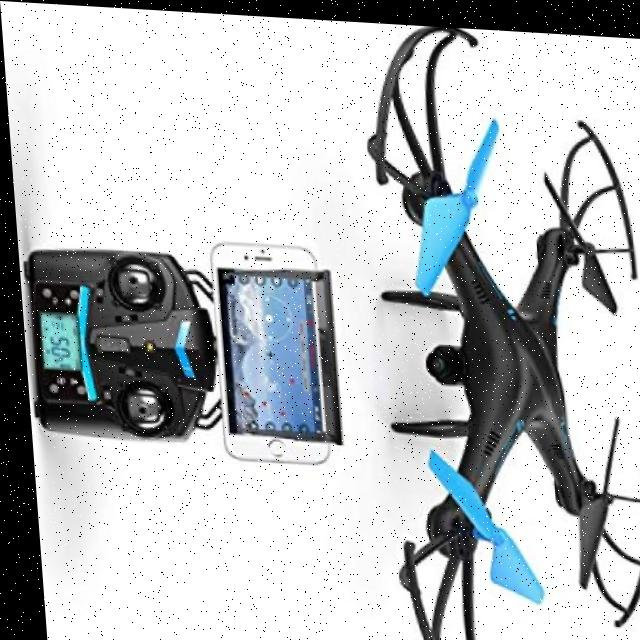drones: (308, 14, 640, 640)
